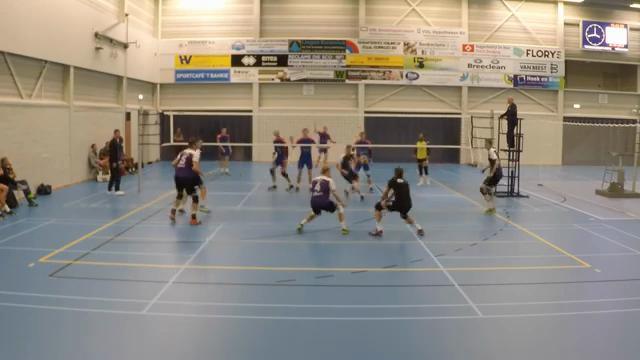ricezione: (363, 162, 429, 238)
